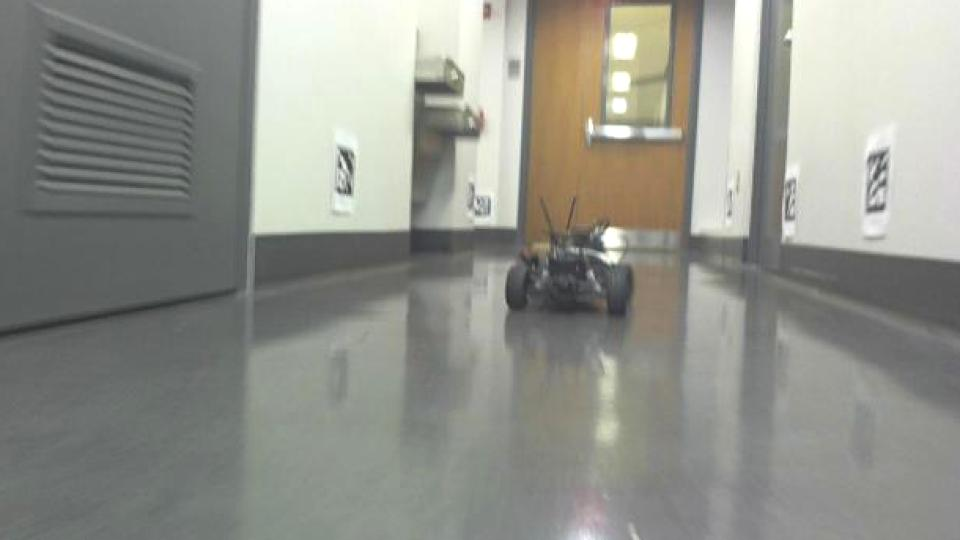car: (502, 193, 639, 319)
